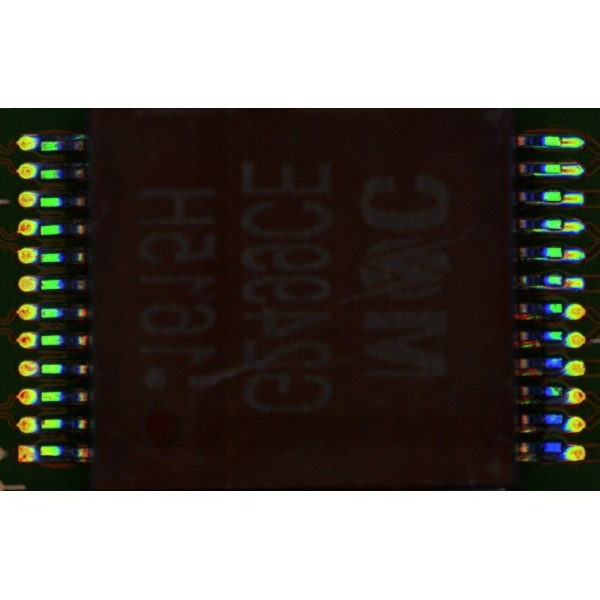Bad_podu: (553, 166, 577, 173), (554, 222, 578, 229), (552, 139, 575, 146), (555, 194, 577, 201), (555, 279, 575, 285), (557, 251, 574, 258)
Bad_qiaojiao: (526, 227, 560, 233), (528, 284, 561, 290), (528, 257, 562, 262), (527, 201, 560, 206), (528, 173, 560, 177)
